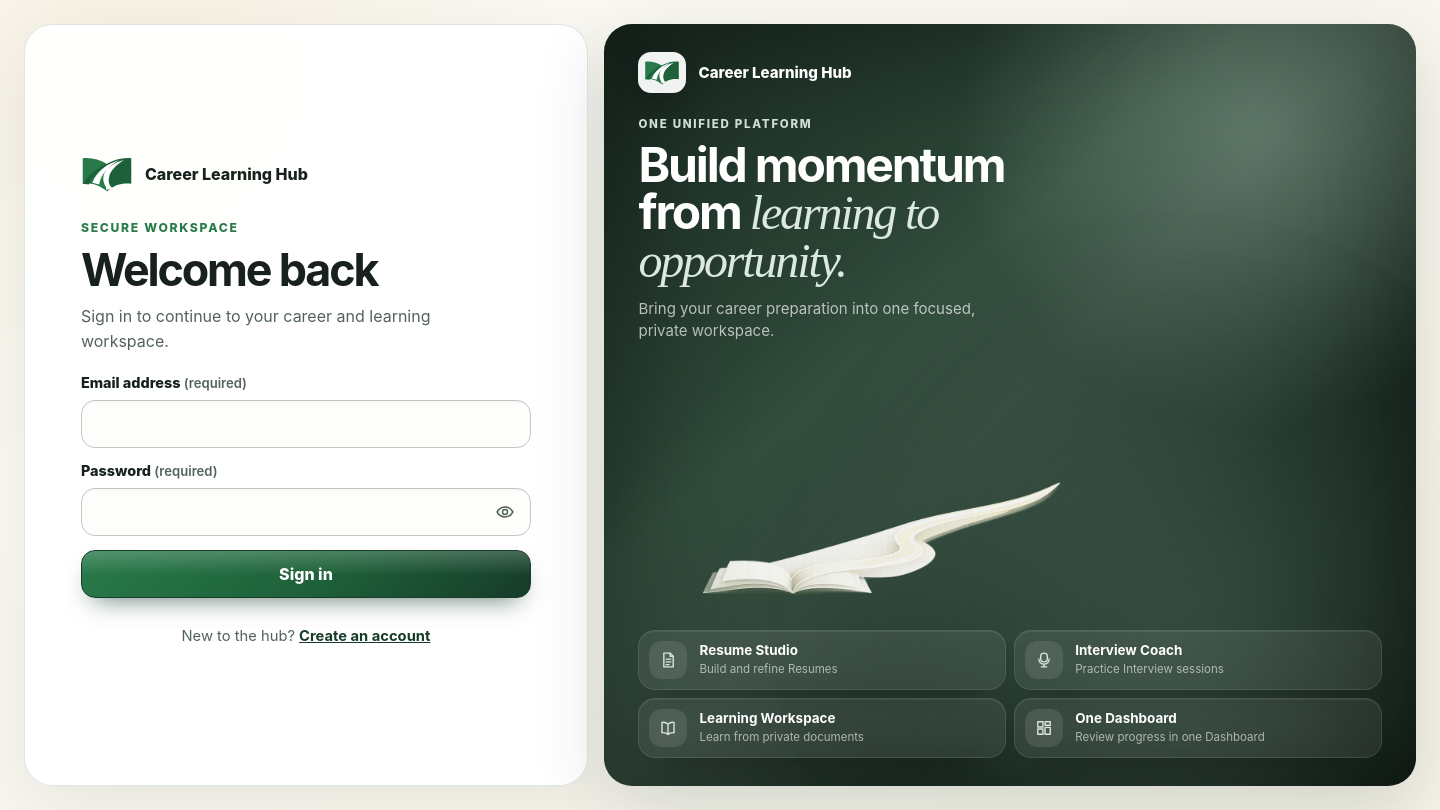
Test: authentication forms and shell interaction › renders a safe API message and request ID without echoing the password
The width and height of the screenshot is (1440, 810).
Check: the heading "Welcome back" is shown, box [81,243,377,297]
Type "router@example.test" into the field labelled "Email address".
click(306, 424); type("router@example.test")  # box [81,400,531,448]
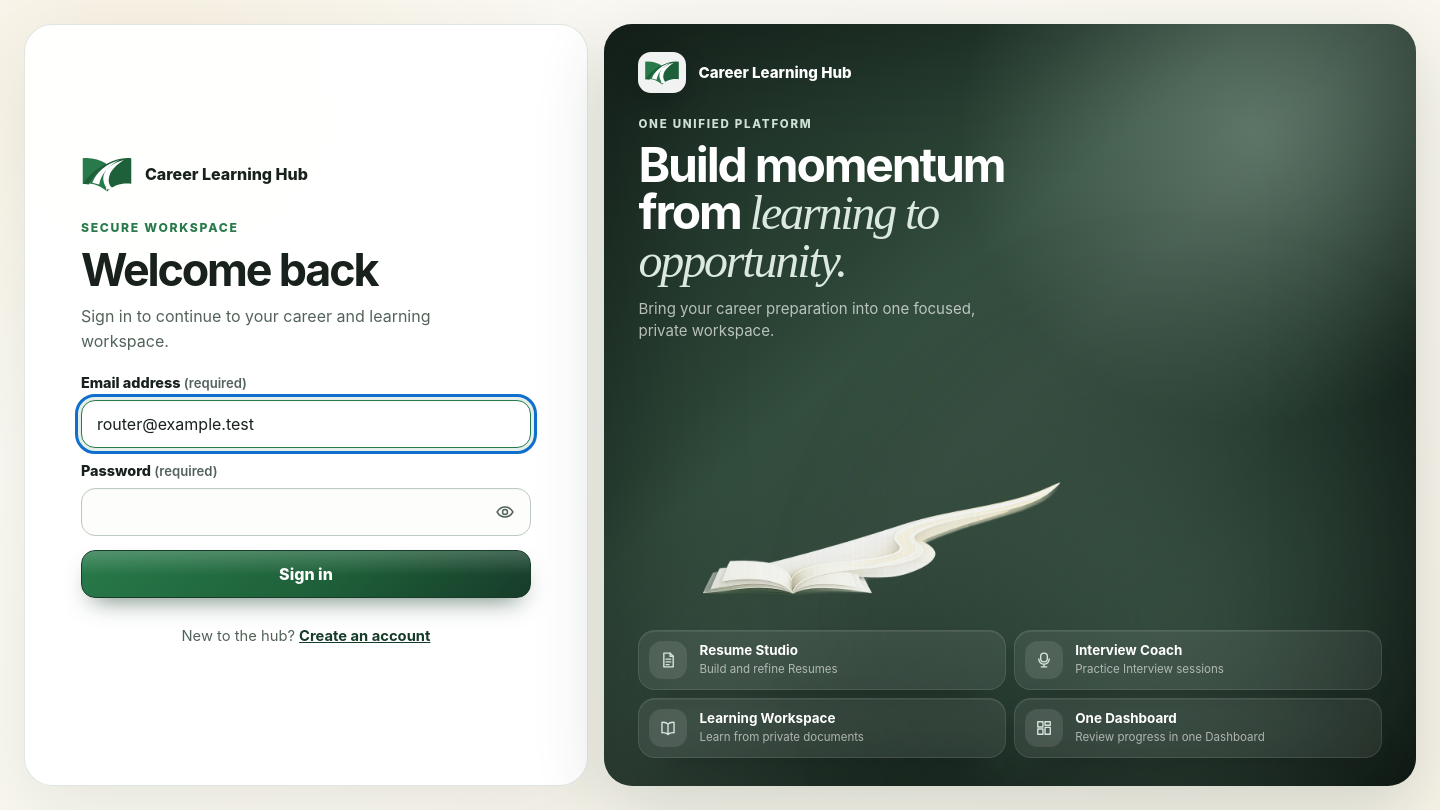
Type "SyntheticPassword1" into the password field labelled "Password".
click(306, 512); type("SyntheticPassword1")  # box [81,488,531,536]
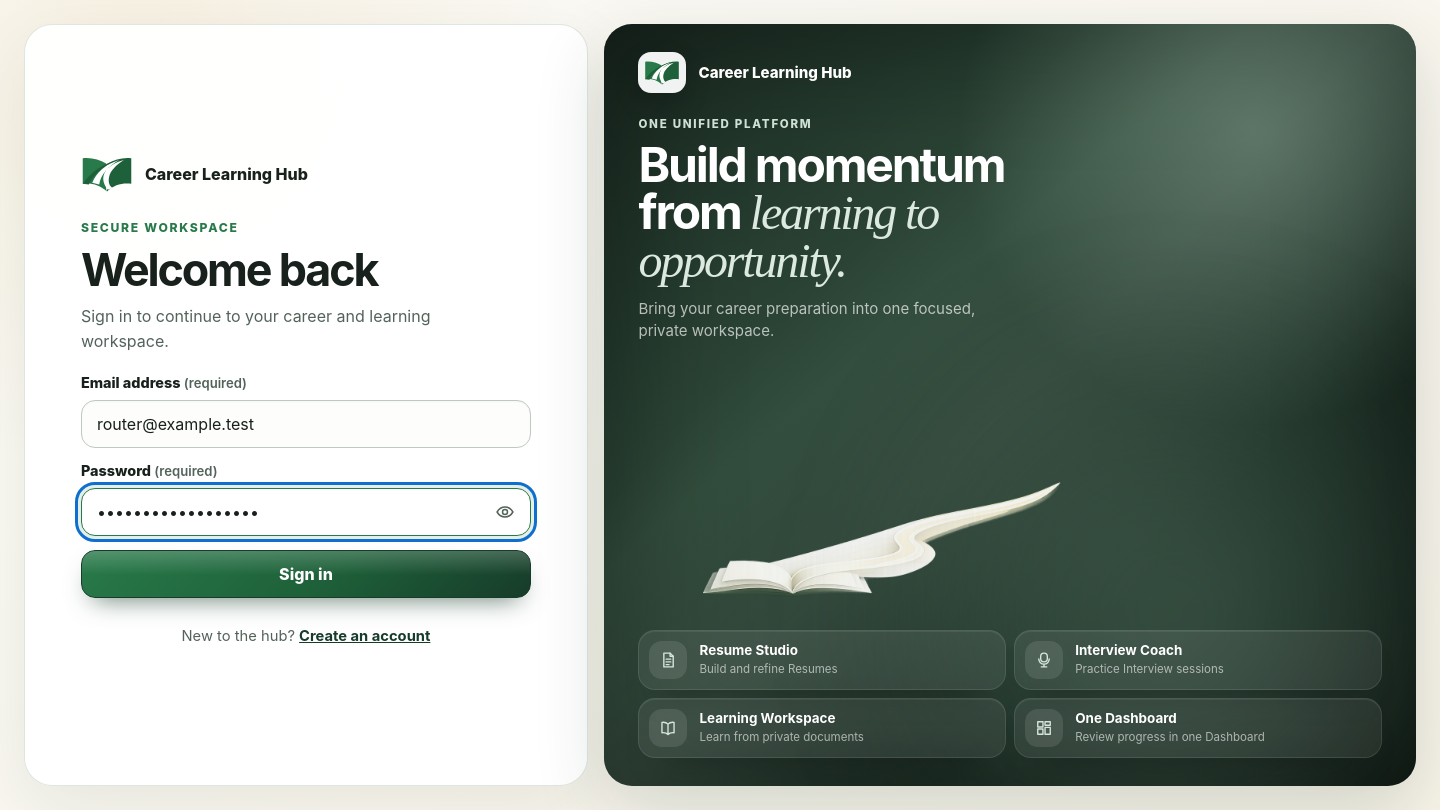
Click the button "Sign in".
click(306, 574)  # box [81,550,531,598]
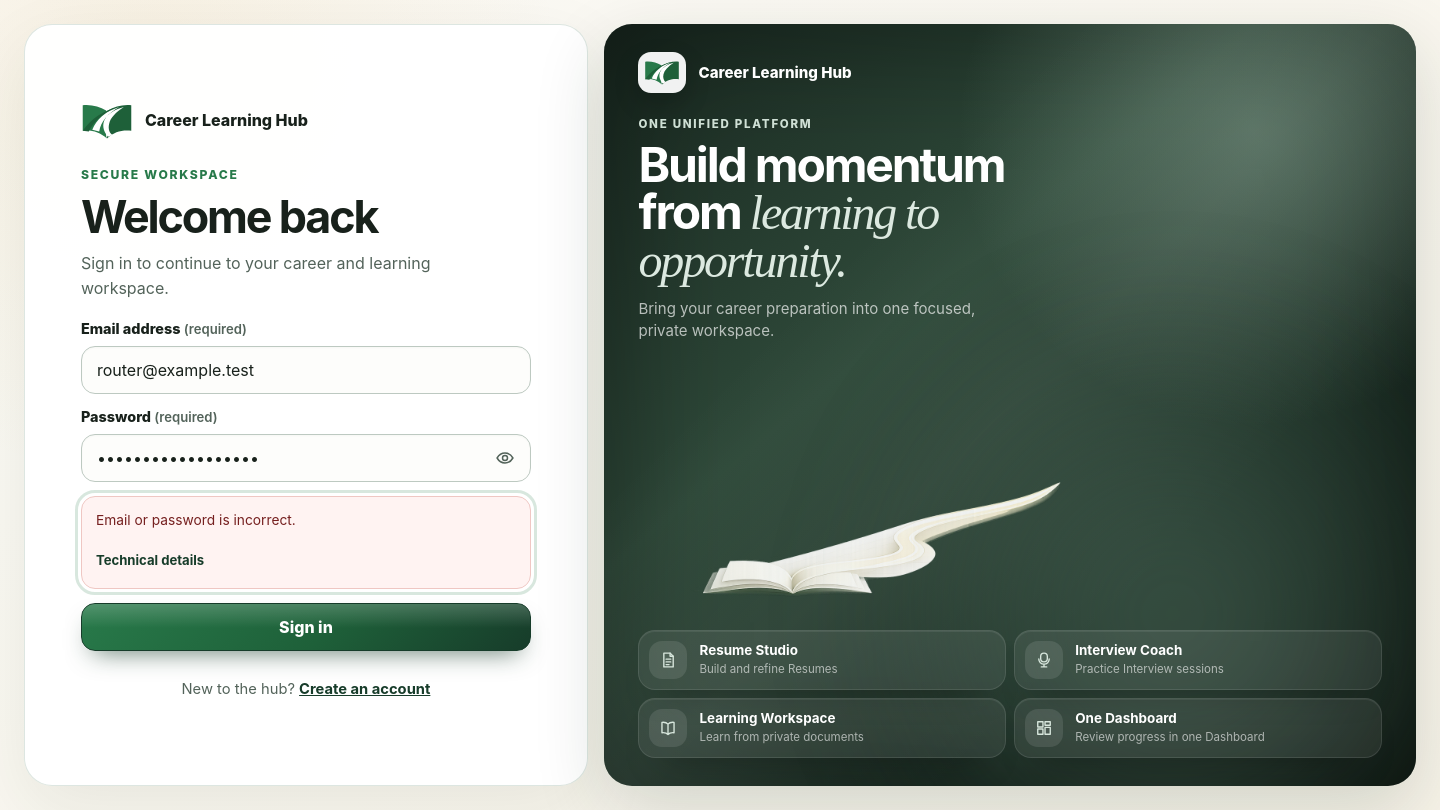
Check: the text "Email or password is incorrect." is shown, box [96,512,296,528]
